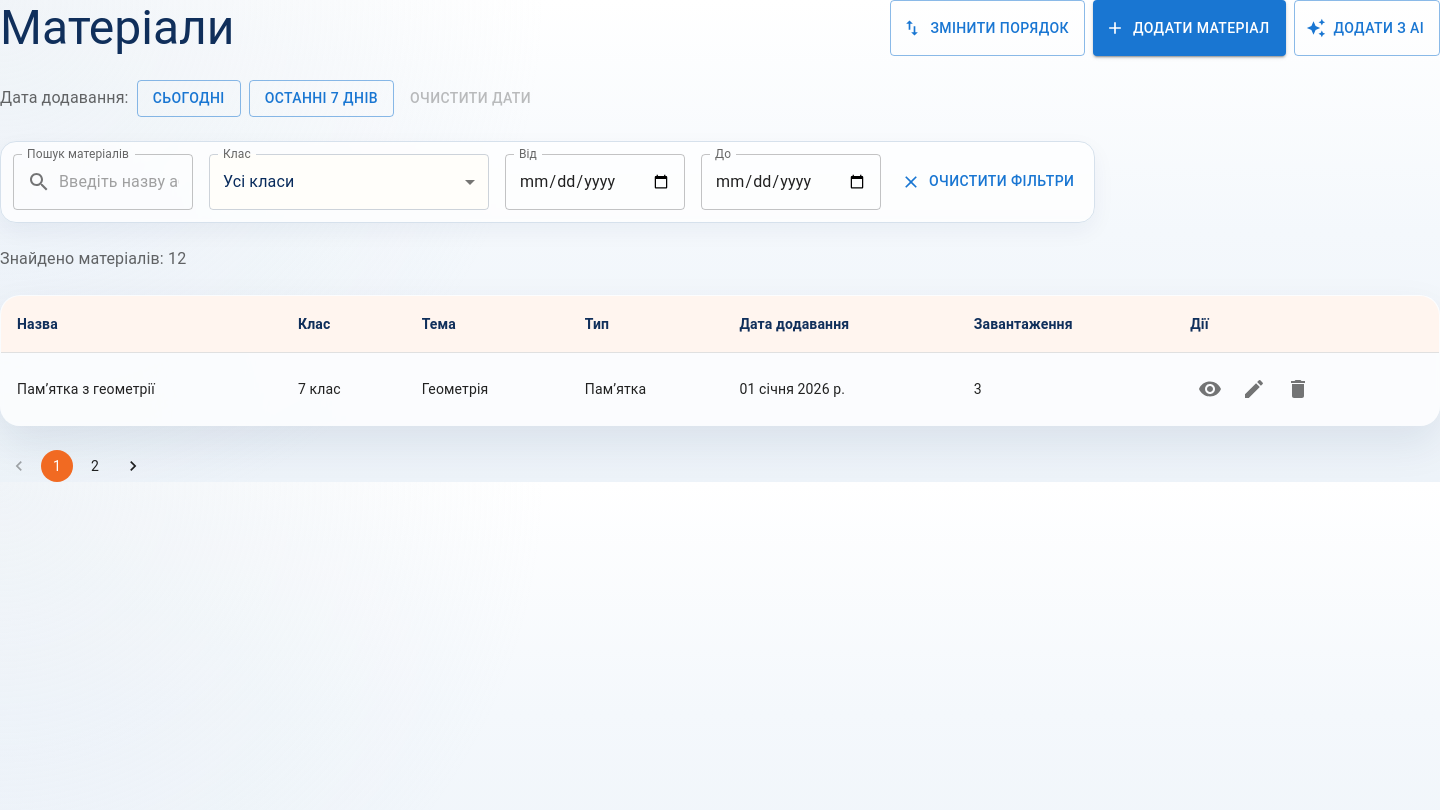
Test: AdminDocumentsPage › moves to the previous page after deleting the only item on page two
This screenshot has width=1440, height=810.
Expected: the text "Пам’ятка з геометрії" is shown, [0,352,282,425]
Click the button "2". click: click(95, 466)
box: [79,450,111,482]
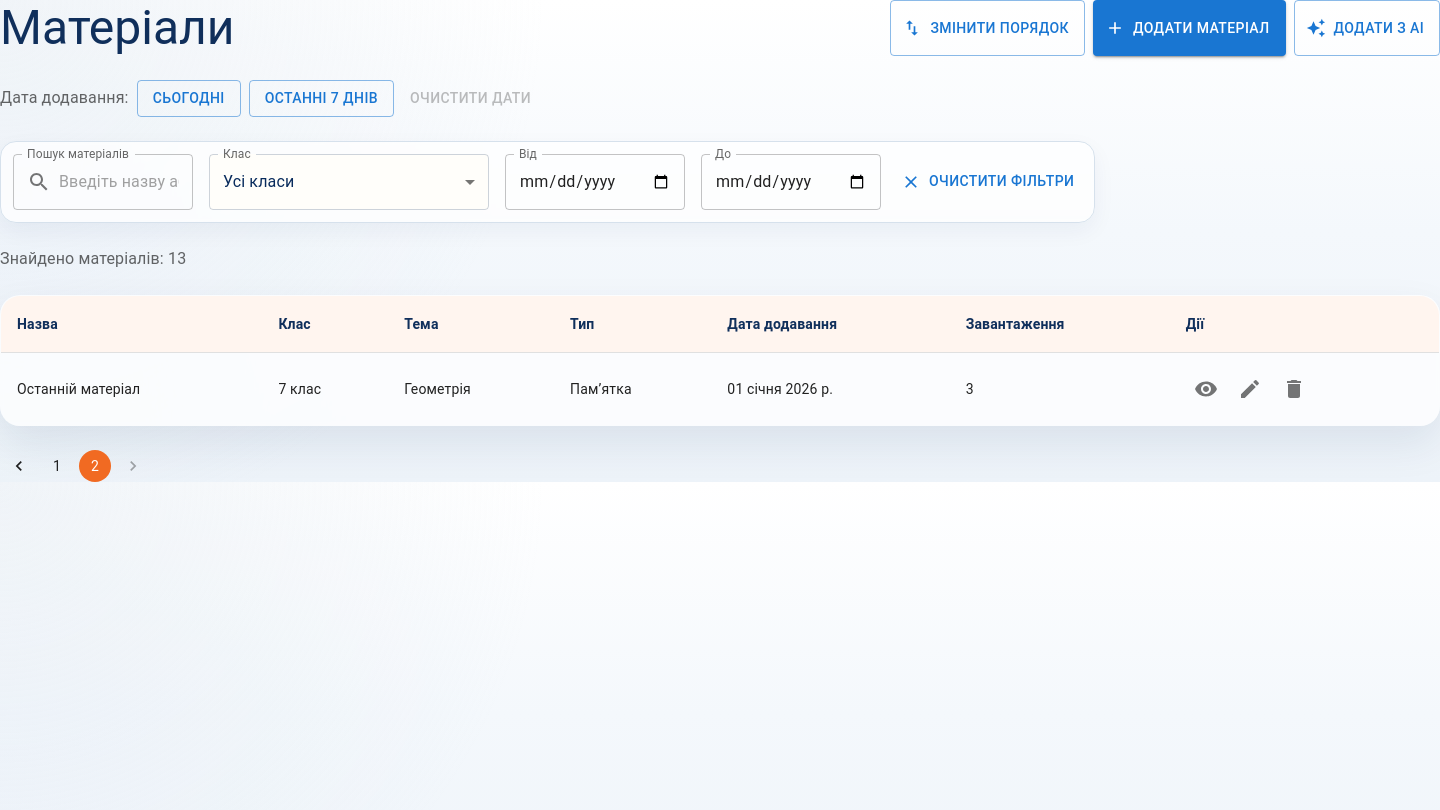
Result: the text "Останній матеріал" is shown at [0,352,262,425]
Click the button named "Видалити". click: click(1294, 388)
box: [1274,368,1314,408]
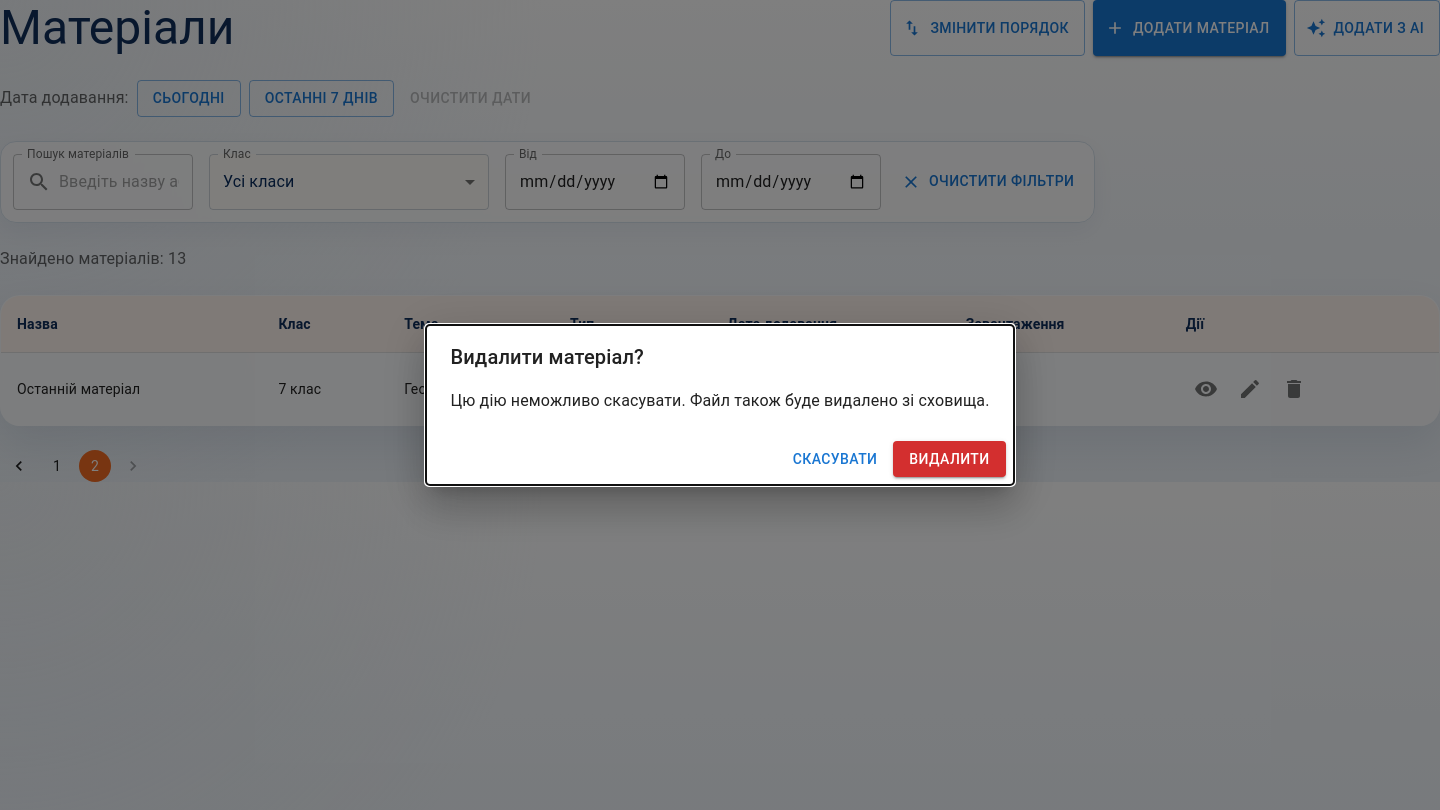
Click the button "Видалити". click: click(949, 459)
box: [893,441,1006,477]
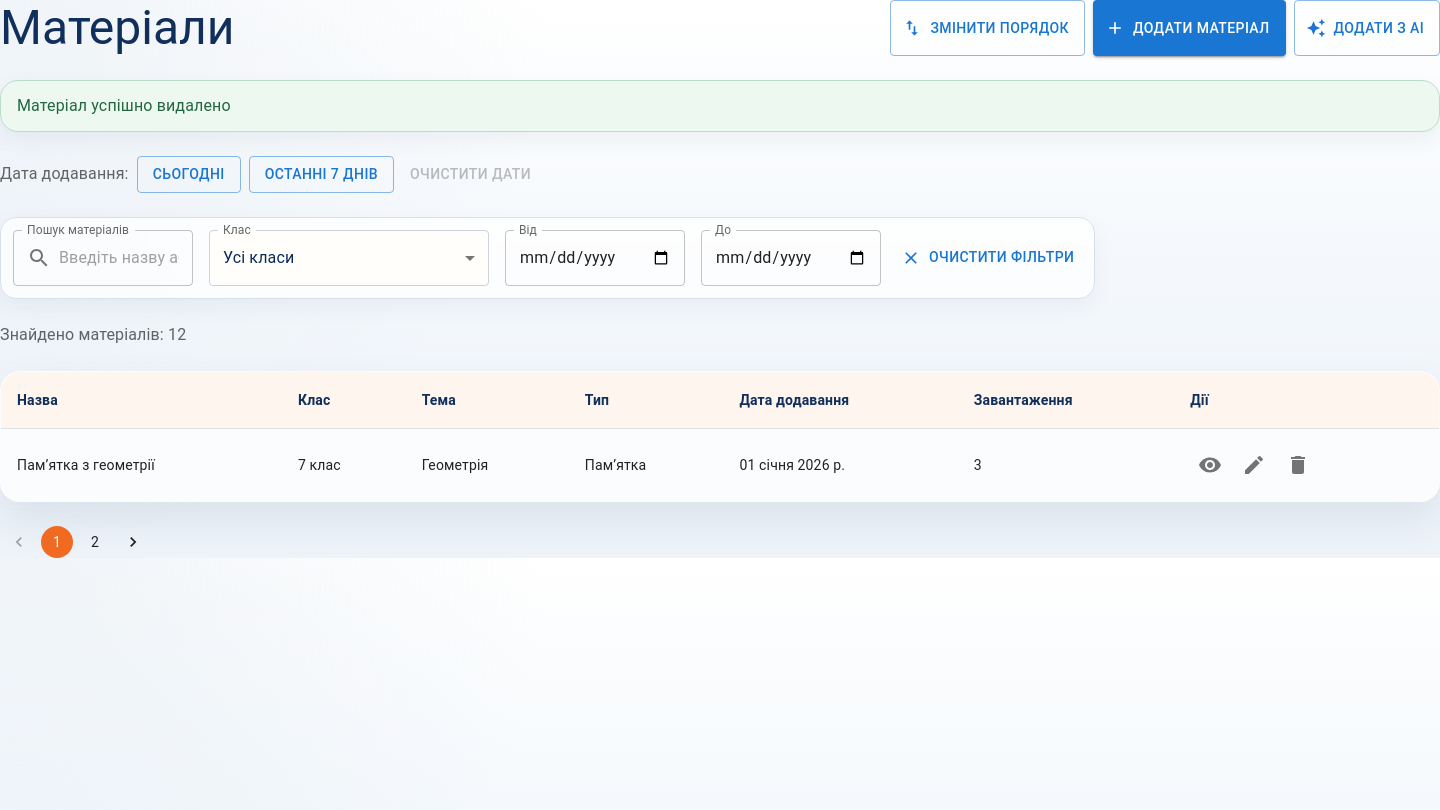
Result: the text "Пам’ятка з геометрії" is shown at [0,428,282,501]
